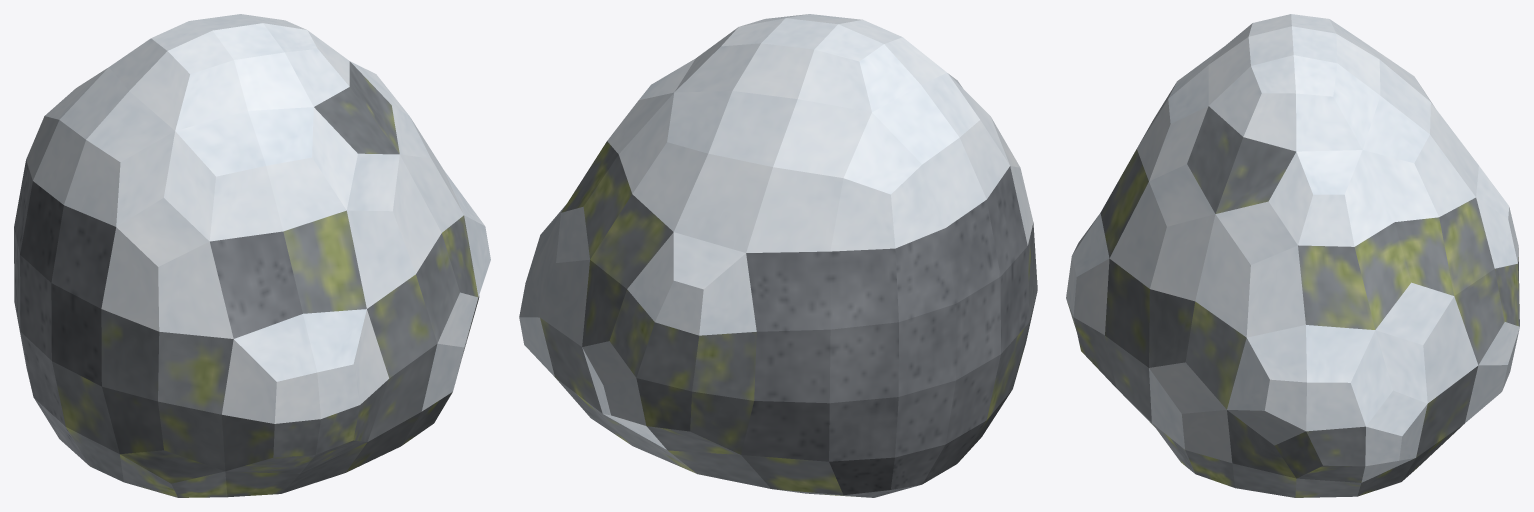
Rendered from rock_small_snow.glb.
3 renders of one model, left to right at view 1: azimuth 30°, elevation 25°; view 2: azimuth 150°, elevation 25°; view 3: azimuth 270°, elevation 25°, orthographic. The views are drawn at different scales.
Parts seen in each view (by area): view 1: wilds_rock_small_snow; view 2: wilds_rock_small_snow; view 3: wilds_rock_small_snow.
Boxes of the visible parts, x1=… form: wilds_rock_small_snow: x1=14, y1=14, x2=490, y2=497; wilds_rock_small_snow: x1=519, y1=14, x2=1037, y2=497; wilds_rock_small_snow: x1=1066, y1=14, x2=1519, y2=497.
Bounding box in the file's own units: 0.294 × 0.2875 × 0.2832.
Materials: 1 (1 with a texture image).
